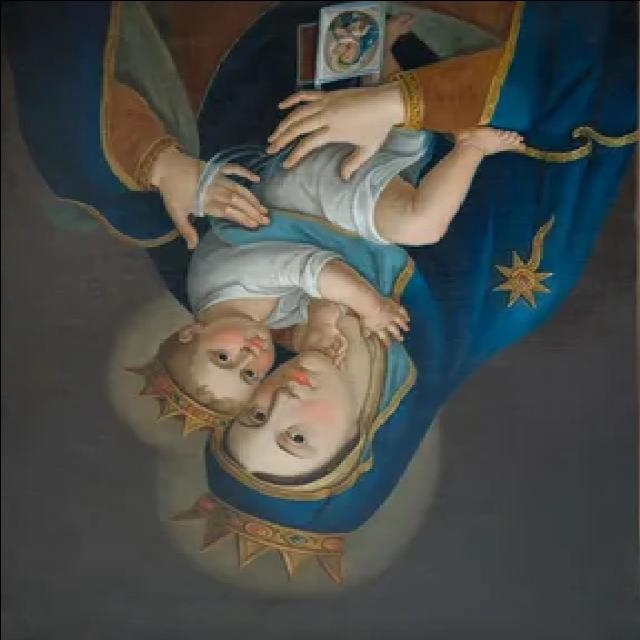mother of god: (2, 0, 640, 542)
